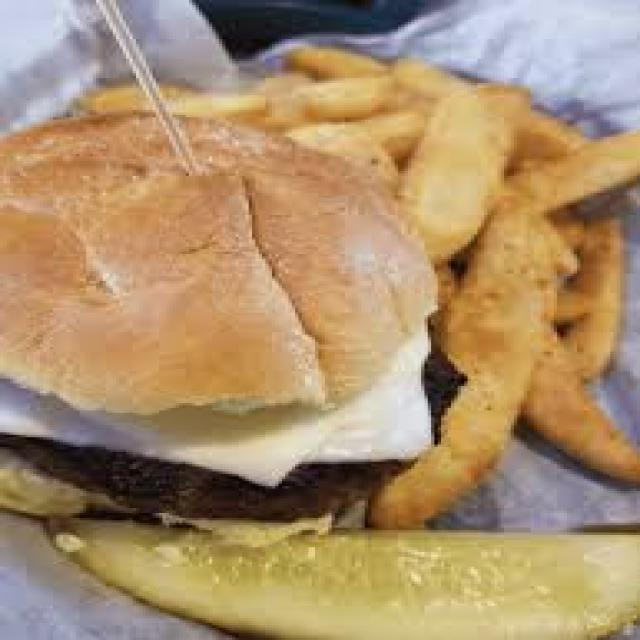Burger: (3, 93, 428, 523)
French Fries: (199, 36, 637, 528)
